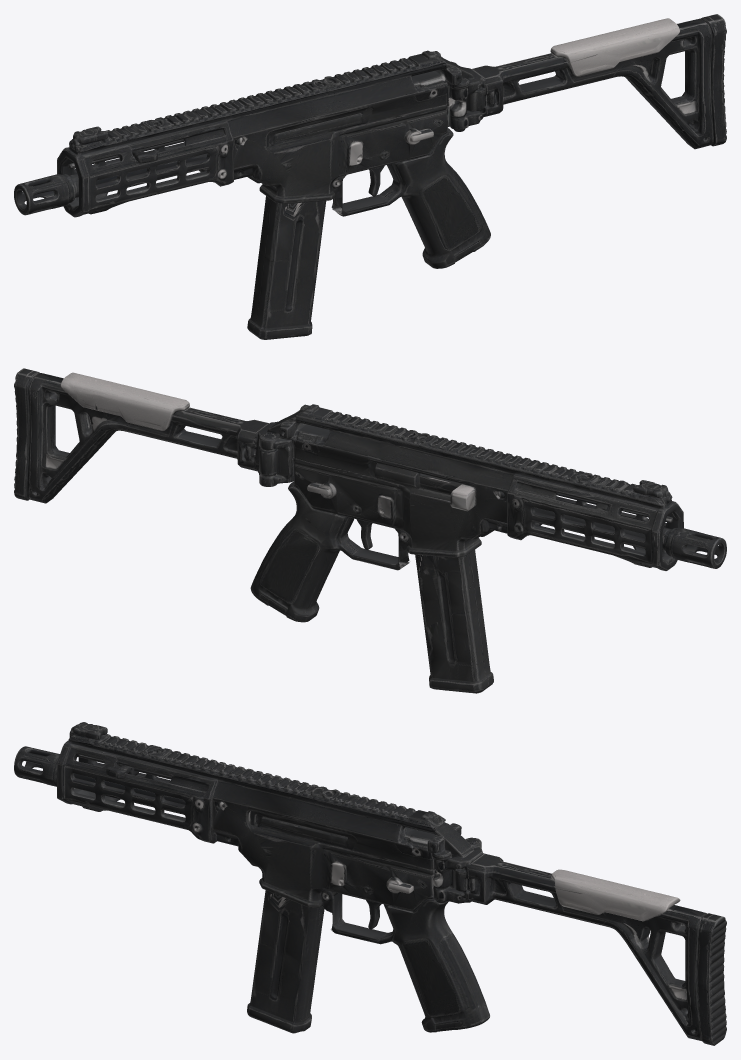
File: shigure_geometry.glb
The picture shows the model from 3 angles, top to bottom: view 1: azimuth 30°, elevation 25°; view 2: azimuth 150°, elevation 25°; view 3: azimuth 330°, elevation 25°; orthographic projection.
Parts seen in each view (by area): view 1: Shigure_Body, Shigure_Magazine; view 2: Shigure_Body, Shigure_Magazine; view 3: Shigure_Body, Shigure_Magazine.
Boxes of the visible parts, box(x1,y1,x2,y2) form: Shigure_Body: box(14, 14, 726, 268); Shigure_Magazine: box(247, 196, 326, 339); Shigure_Body: box(14, 368, 726, 622); Shigure_Magazine: box(415, 550, 493, 693); Shigure_Body: box(14, 722, 726, 1045); Shigure_Magazine: box(247, 890, 324, 1033).
Size of the model in its own units: 0.6852 by 0.234 by 0.0679.
Materials: 1 (1 with a texture image).
